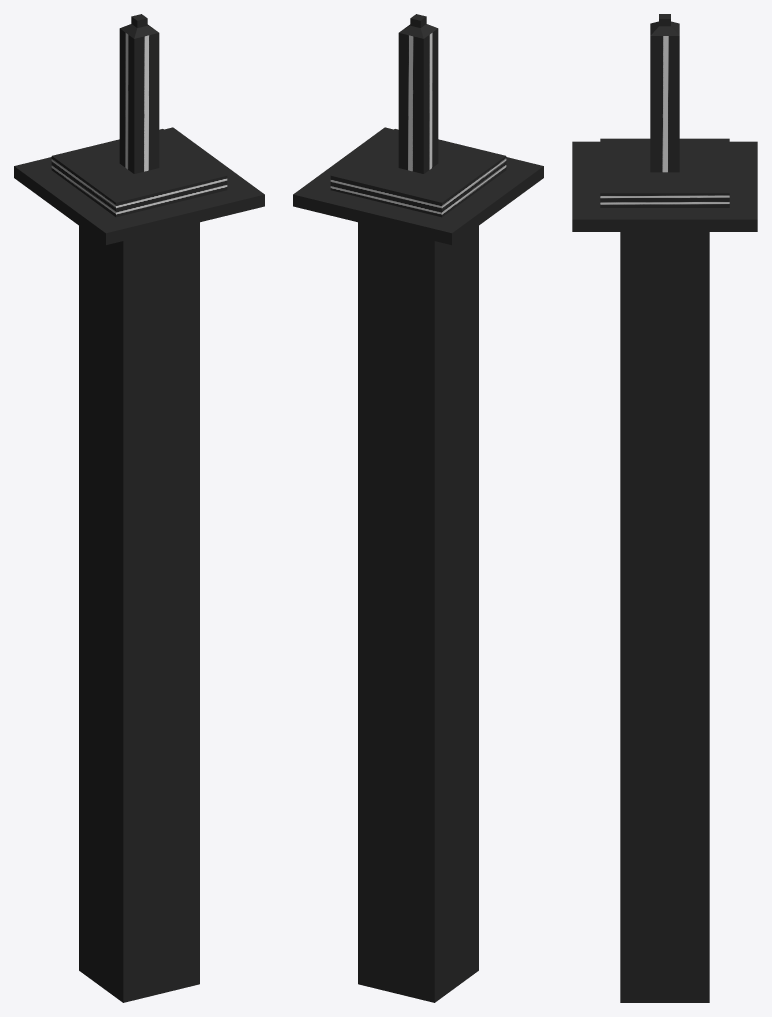
File: Stage10.fbx
3 views of the same model, side by side, from view 1: azimuth 30°, elevation 25°; view 2: azimuth 150°, elevation 25°; view 3: azimuth 270°, elevation 25° (orthographic).
Parts seen in each view (by area): view 1: pCube1; view 2: pCube1; view 3: pCube1.
Boxes of the visible parts, left/top/right/bottom form: pCube1: left=14, top=14, right=264, bottom=1002; pCube1: left=293, top=14, right=543, bottom=1002; pCube1: left=572, top=14, right=757, bottom=1002.
Size of the model in its own units: 87.57 by 505 by 87.57.
1 material, 1 textured.
